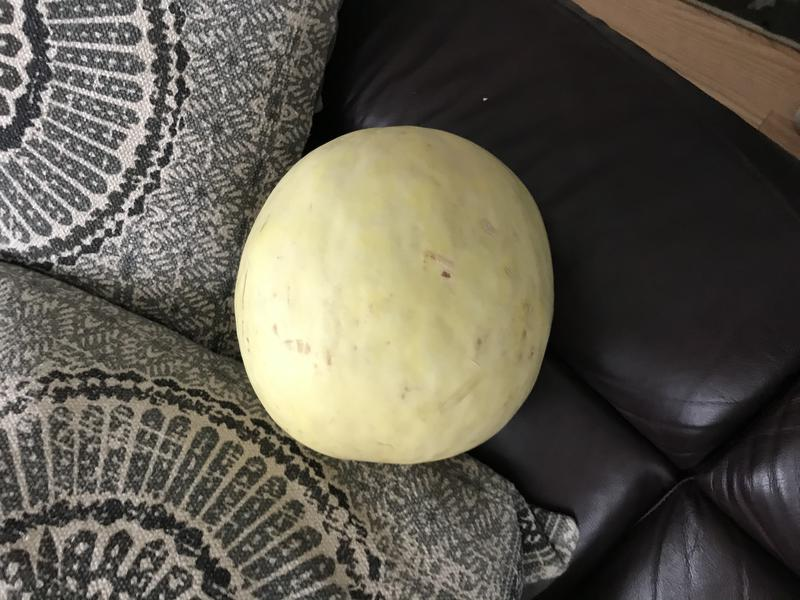honeydew: (230, 120, 561, 471)
